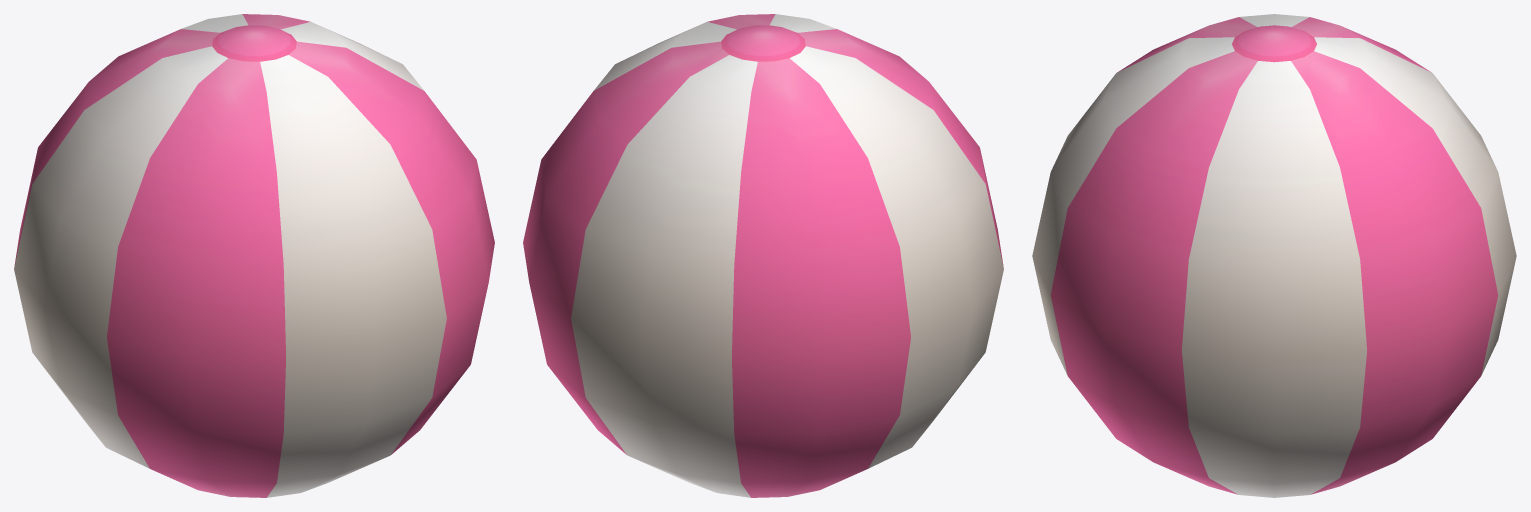
Rendered from Doll_OB_Ball_004.FBX.
3 renders of one model, left to right at view 1: azimuth 30°, elevation 25°; view 2: azimuth 150°, elevation 25°; view 3: azimuth 270°, elevation 25°, orthographic.
Parts seen in each view (by area): view 1: Doll_OB_Ball_004; view 2: Doll_OB_Ball_004; view 3: Doll_OB_Ball_004.
Boxes of the visible parts, left/top/right/bottom form: Doll_OB_Ball_004: left=14, top=14, right=494, bottom=497; Doll_OB_Ball_004: left=523, top=14, right=1003, bottom=497; Doll_OB_Ball_004: left=1032, top=14, right=1516, bottom=497.
Bounding box in the file's own units: 20.6 × 20.83 × 20.6.
